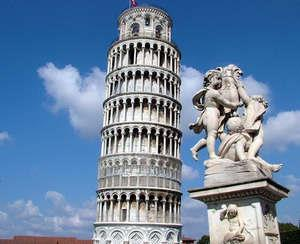Torre_di_Pisa: (95, 5, 187, 240)
